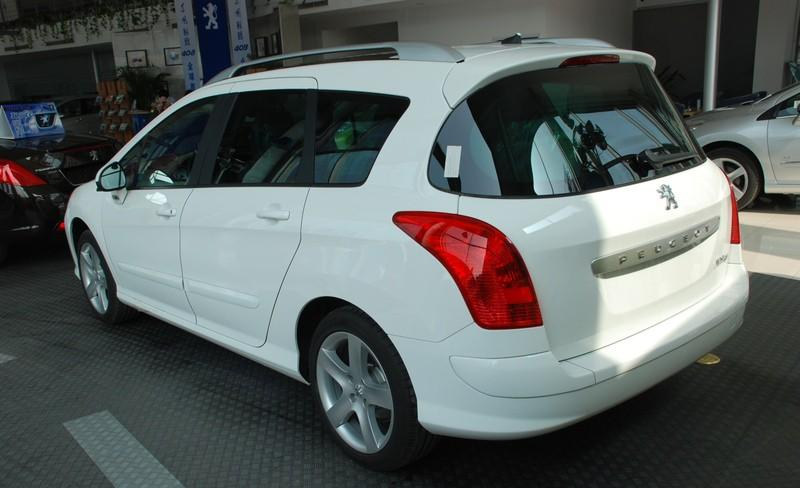Wagon: (64, 34, 748, 473)
